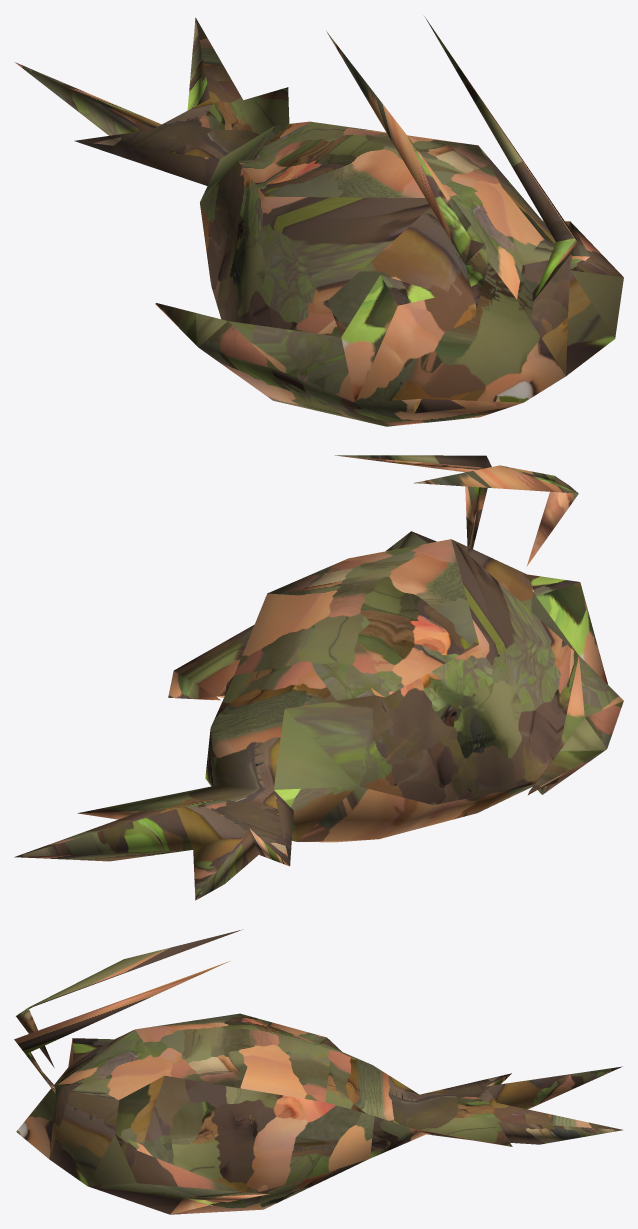
The model's file is EnemyCollider.fbx.
3 renders of one model, top to bottom at view 1: azimuth 30°, elevation 25°; view 2: azimuth 150°, elevation 25°; view 3: azimuth 270°, elevation 25°, orthographic. The views are drawn at different scales.
Parts seen in each view (by area): view 1: Mesh_0; view 2: Mesh_0; view 3: Mesh_0.
Part boxes in pixels (bbox=[...]): Mesh_0: bbox=[15, 16, 623, 426]; Mesh_0: bbox=[14, 455, 623, 900]; Mesh_0: bbox=[14, 929, 622, 1214].
Size of the model in its own units: 110 by 91.04 by 201.
